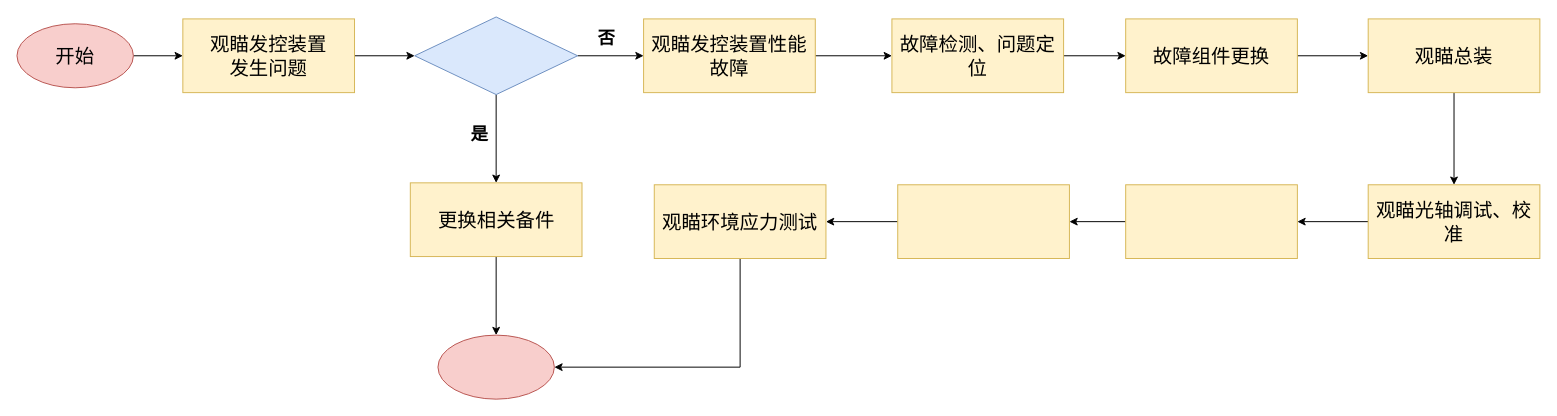
The diagram is 1557 pixels wide and 416 high, and some of its shapes have lost their labels. The shapes that lost their labels are listed below. From the top down, each one's centre as x and y in pixels, then its label:
the point at 496,55: 是否外观问题
the point at 983,221: 观瞄性能测试
the point at 1211,221: 观瞄密封及密封性
the point at 495,366: 结束
